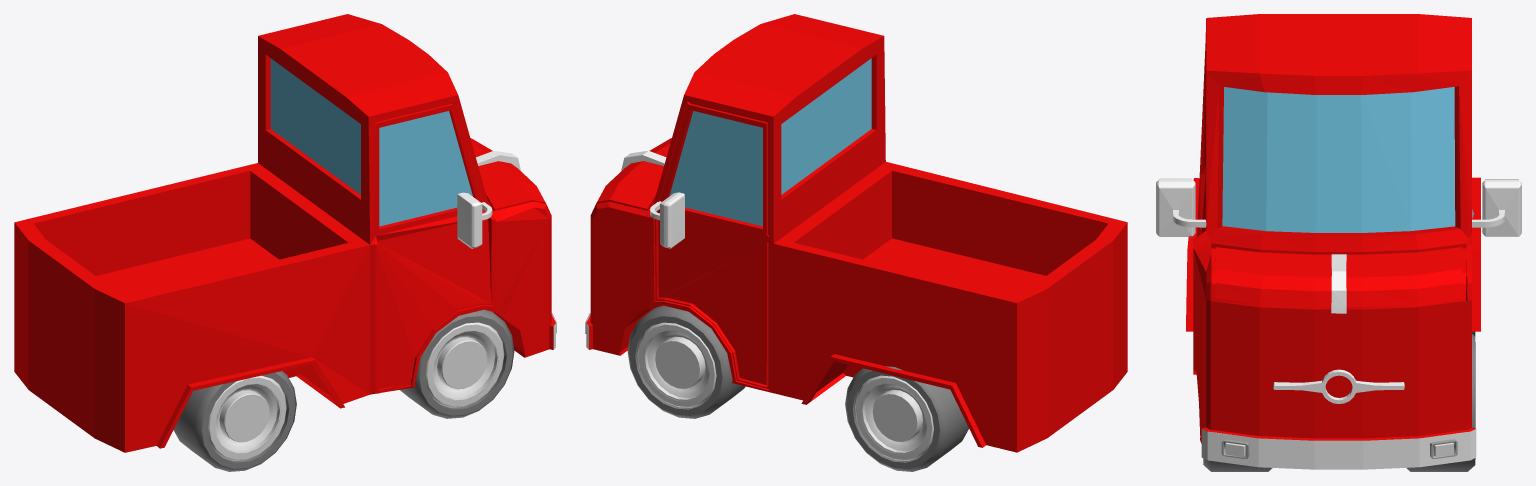
File: Unity TRUCK.fbx
3 renders of one model, left to right at view 1: azimuth 30°, elevation 25°; view 2: azimuth 150°, elevation 25°; view 3: azimuth 270°, elevation 25°, orthographic. The views are drawn at different scales.
Parts seen in each view (by area): view 1: polySurface4, pCylinder10, pCylinder18, pCylinder15, pCylinder8, pCube4; view 2: polySurface4, pCylinder14, pCylinder16, pCylinder17, pCylinder13, pCube5; view 3: polySurface4, pCube4, pCube5, pCylinder12, pCylinder13, pCylinder8, pCube8, pCube9.
Part boxes in pixels (x1,y1,x2,y2): polySurface4: (14,14,555,452); pCylinder10: (425,322,504,407); pCylinder18: (208,375,286,460); pCylinder15: (173,371,296,471); pCylinder8: (400,309,514,418); pCube4: (457,192,492,248); polySurface4: (586,14,1127,452); pCylinder14: (637,322,716,408); pCylinder16: (855,375,933,461); pCylinder17: (845,366,968,471); pCylinder13: (627,305,745,418); pCube5: (650,192,684,248); polySurface4: (1186,14,1480,469); pCube4: (1156,178,1206,236); pCube5: (1472,179,1521,236); pCylinder12: (1273,369,1404,403); pCylinder13: (1406,334,1475,471); pCylinder8: (1203,458,1272,471); pCube8: (1221,439,1249,458); pCube9: (1430,439,1457,458).
Bounding box in the file's own units: 3632 × 2500 × 2097.
